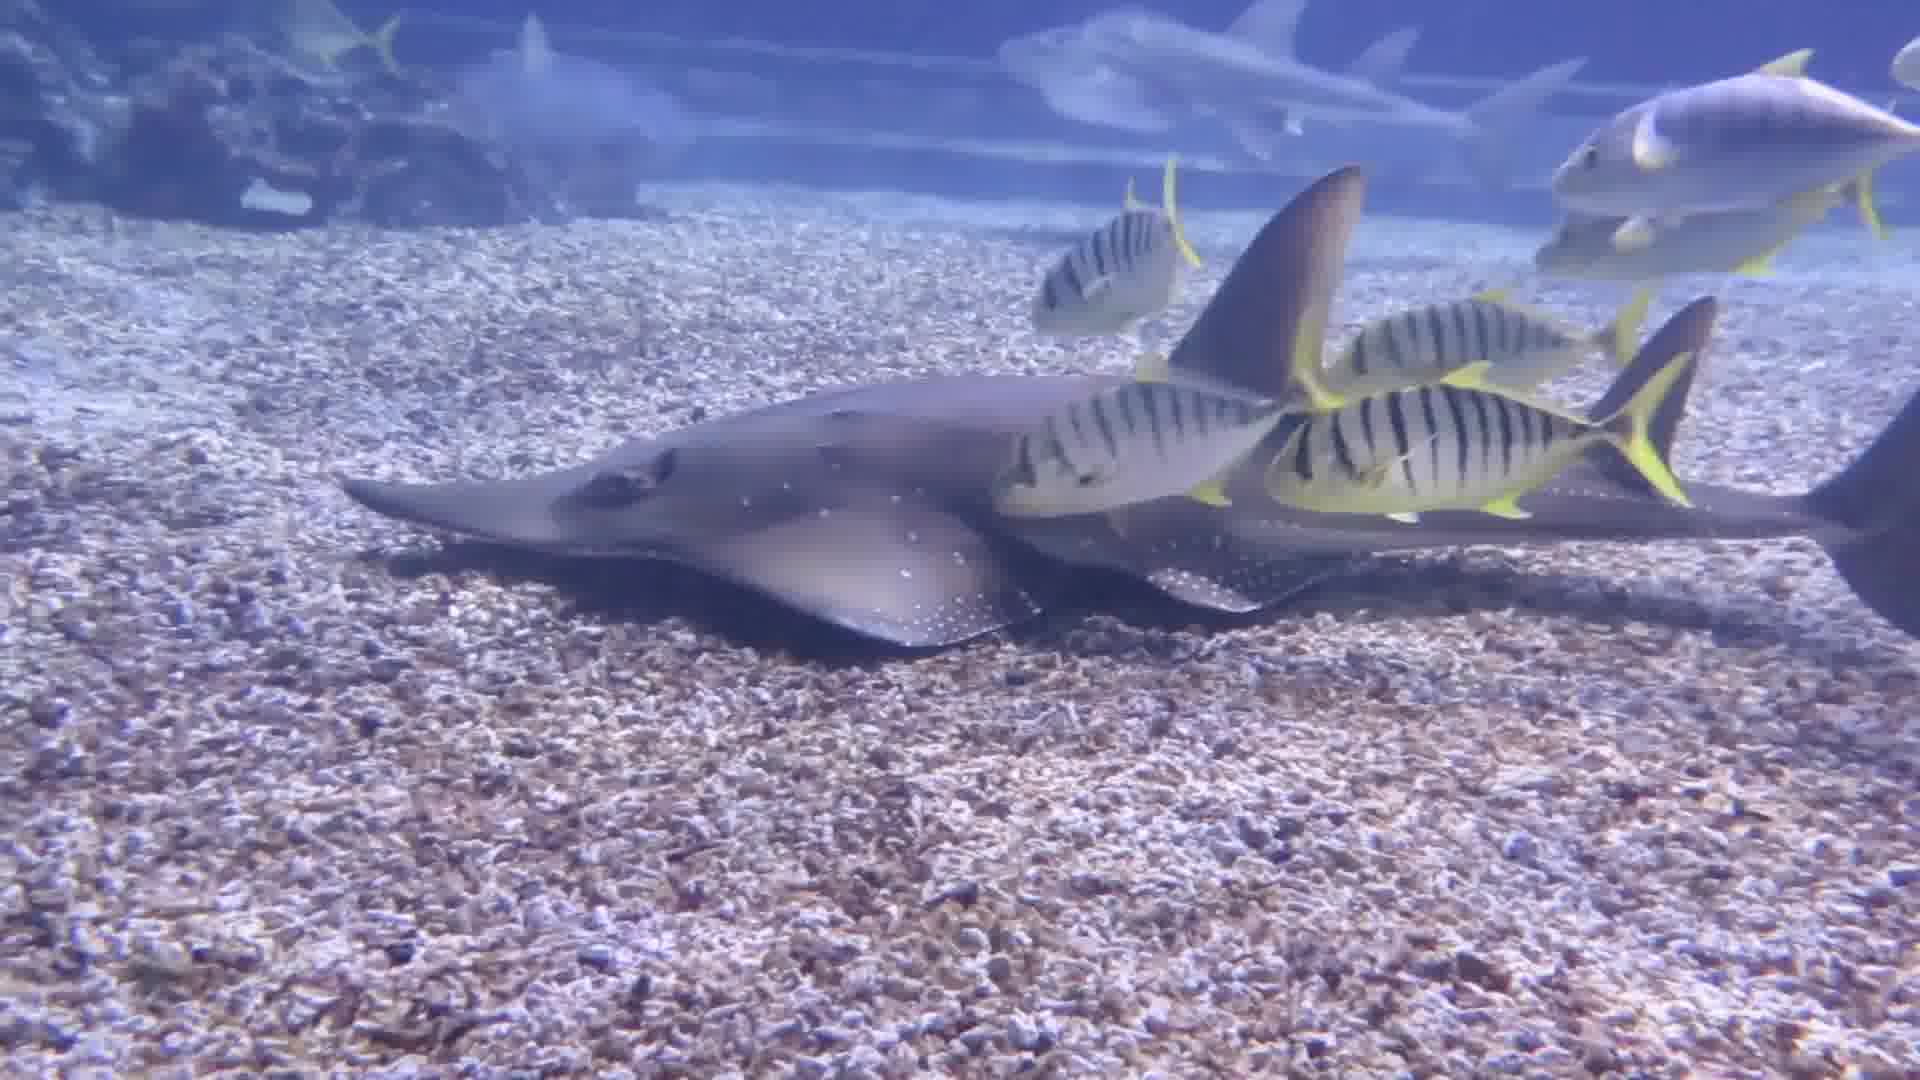Rhychobatus djiddensis: (272, 194, 1920, 673)
